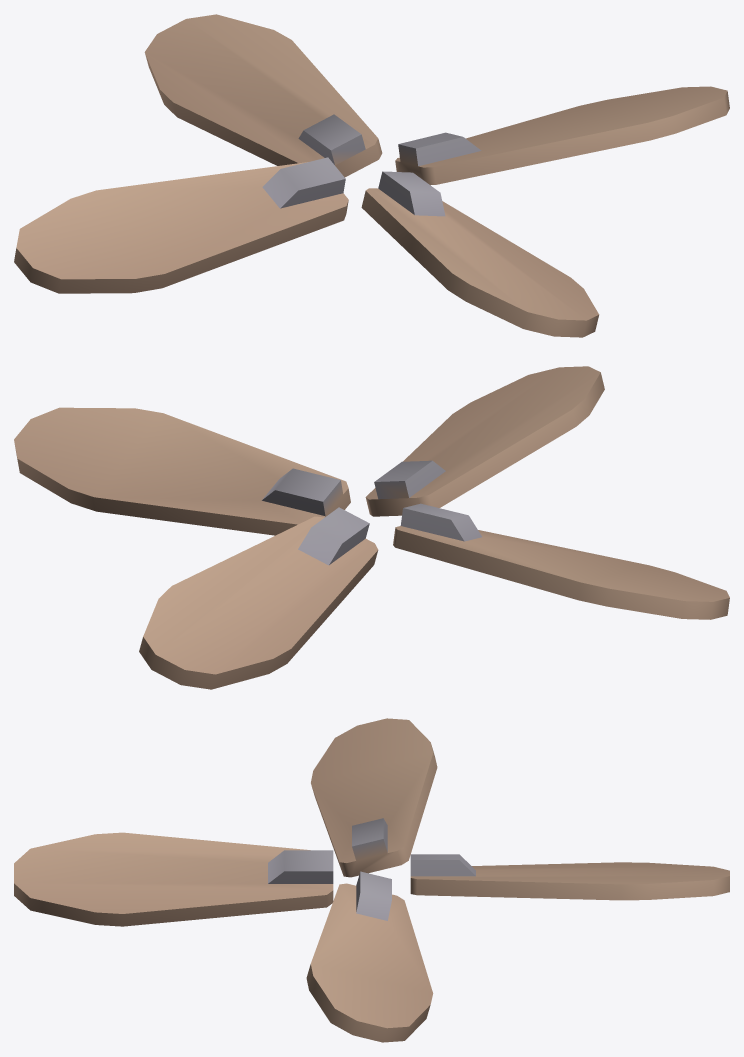
File: (%no-merge) (%animation-rotate-y).glb
3 renders of one model, top to bottom at view 1: azimuth 30°, elevation 25°; view 2: azimuth 150°, elevation 25°; view 3: azimuth 270°, elevation 25°, orthographic. The views are drawn at different scales.
Parts seen in each view (by area): view 1: (%no-merge) (%animation-rotate-y); view 2: (%no-merge) (%animation-rotate-y); view 3: (%no-merge) (%animation-rotate-y).
Boxes of the visible parts, x1,y1,x2,y2 form: (%no-merge) (%animation-rotate-y): [14, 14, 729, 337]; (%no-merge) (%animation-rotate-y): [14, 366, 729, 689]; (%no-merge) (%animation-rotate-y): [14, 718, 729, 1042].
Size of the model in its own units: 1.09 by 0.0798 by 1.09.
